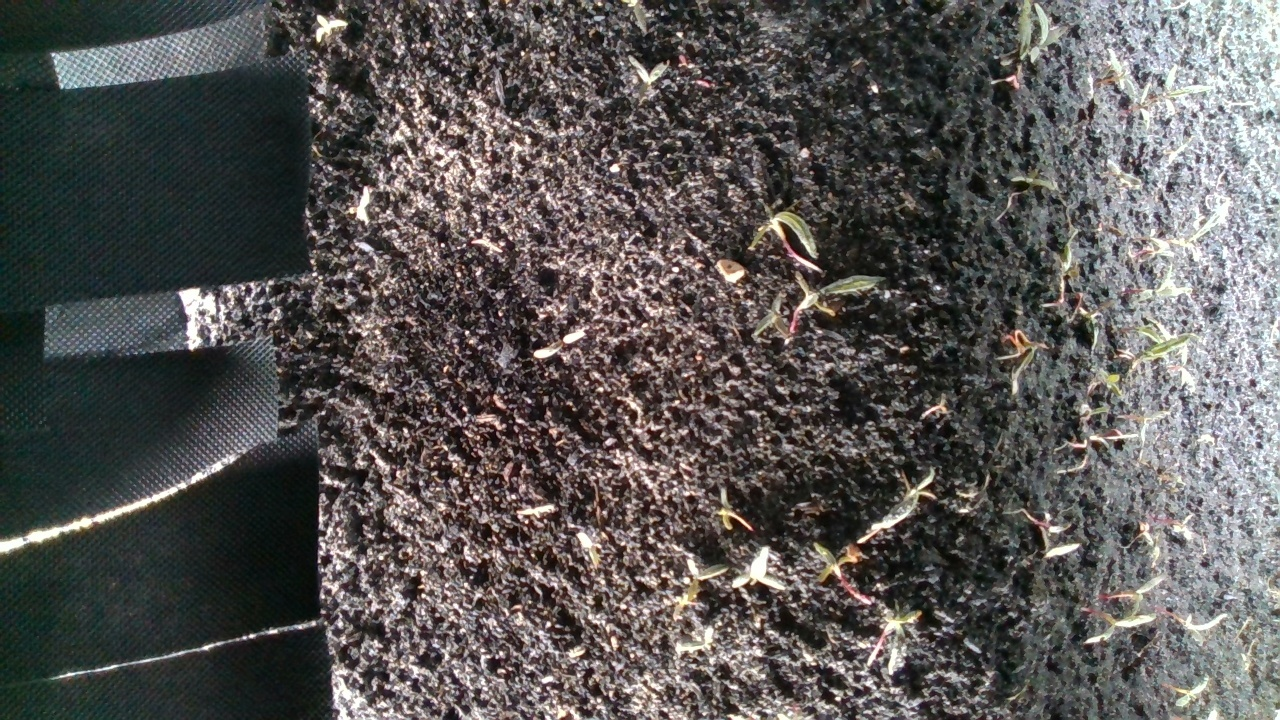weed: (1076, 580, 1155, 648), (538, 322, 591, 375), (707, 488, 761, 535)
